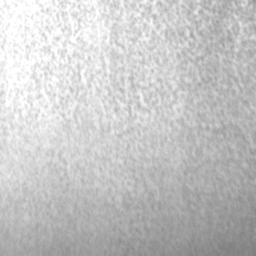Pitted surface: (0, 0, 256, 256), (241, 197, 256, 234)
